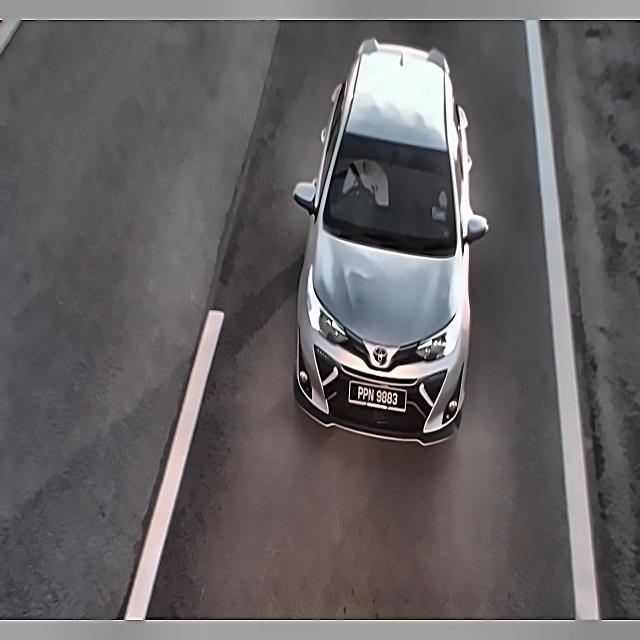car: (346, 374, 410, 416)
